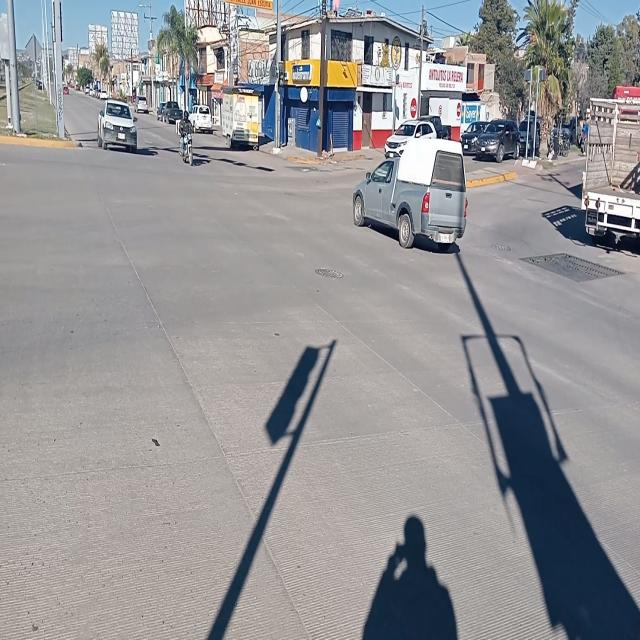Auto: (357, 142, 468, 249), (95, 97, 141, 150)
